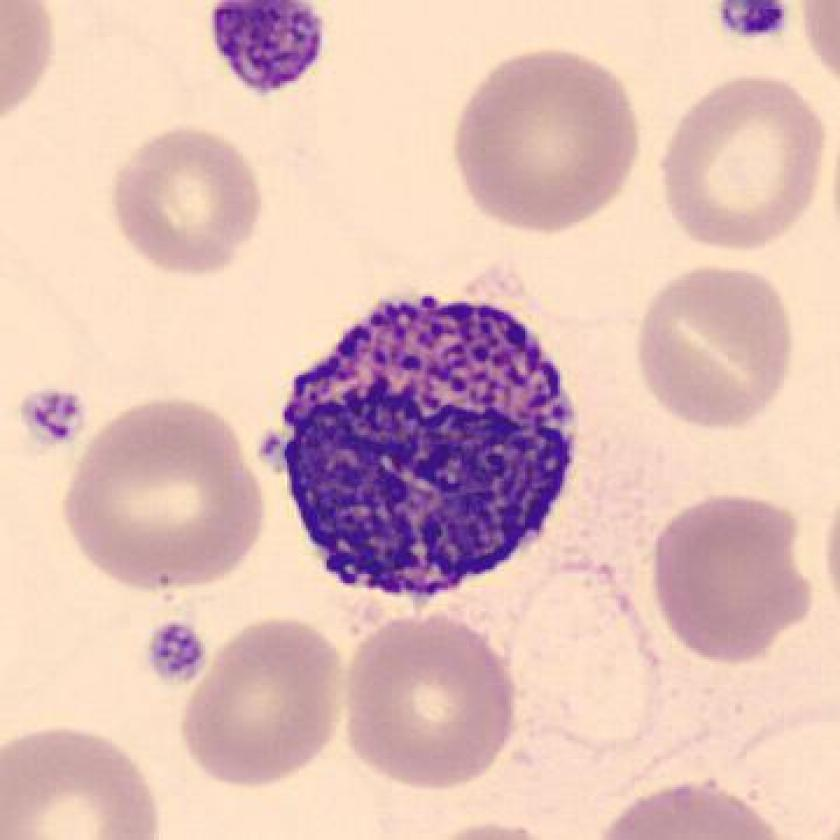basophil: (276, 279, 596, 607)
